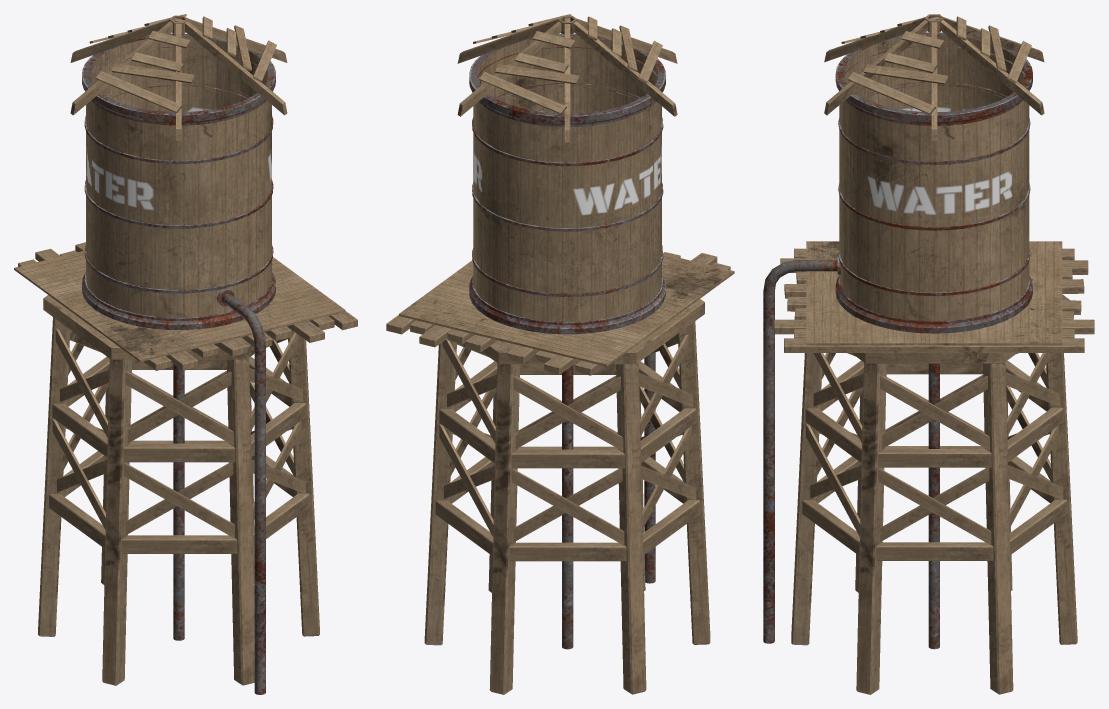
Rendered from water.fbx.
3 views of the same model, side by side, from view 1: azimuth 30°, elevation 25°; view 2: azimuth 150°, elevation 25°; view 3: azimuth 270°, elevation 25° (orthographic).
Visible parts, largest first — view 1: water; view 2: water; view 3: water.
Part boxes in pixels (left/top/right/bottom): water: left=14, top=14, right=357, bottom=694; water: left=386, top=14, right=734, bottom=694; water: left=763, top=14, right=1094, bottom=694.
Bounding box in the file's own units: 13.04 × 35.37 × 16.88.
